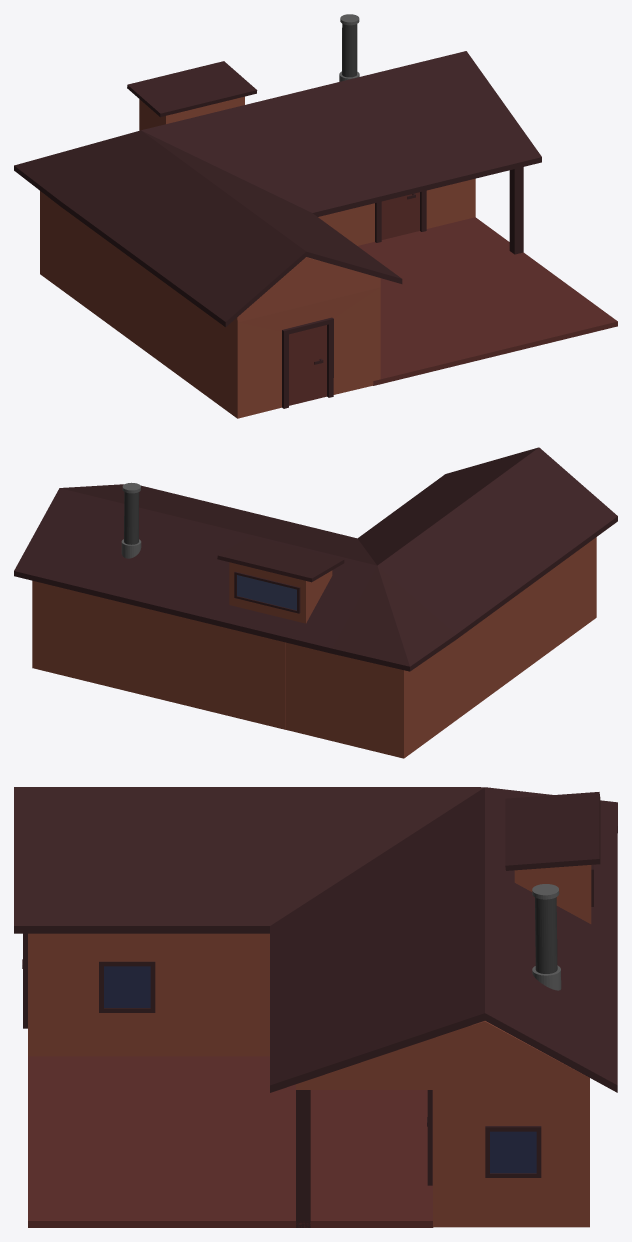
File: Casa camp7.fbx
The picture shows the model from 3 angles, top to bottom: view 1: azimuth 30°, elevation 25°; view 2: azimuth 150°, elevation 25°; view 3: azimuth 270°, elevation 25°; orthographic projection. The views are drawn at different scales.
Parts seen in each view (by area): view 1: Cube.002; view 2: Cube.002; view 3: Cube.002.
Boxes of the visible parts, x1,y1,x2,y2 form: Cube.002: (14, 14, 617, 418); Cube.002: (14, 447, 617, 758); Cube.002: (14, 787, 617, 1227).
Size of the model in its own units: 1740 by 802 by 1574.
